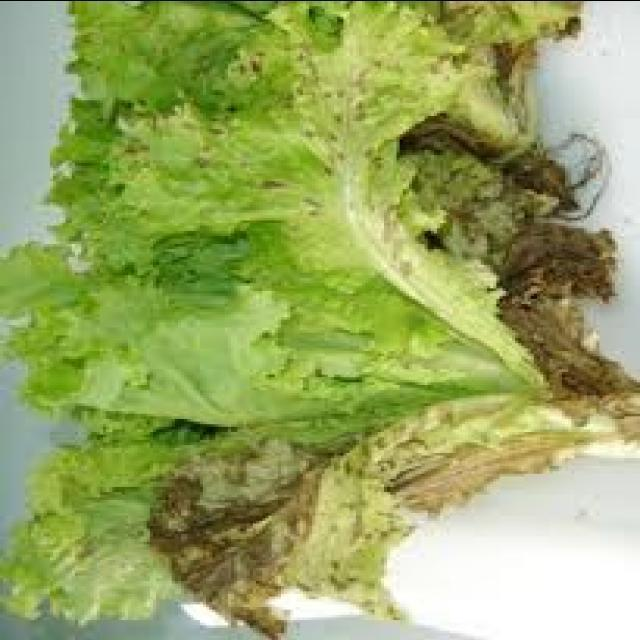Septoria_Blight_on_lettuce: (102, 19, 368, 590)
